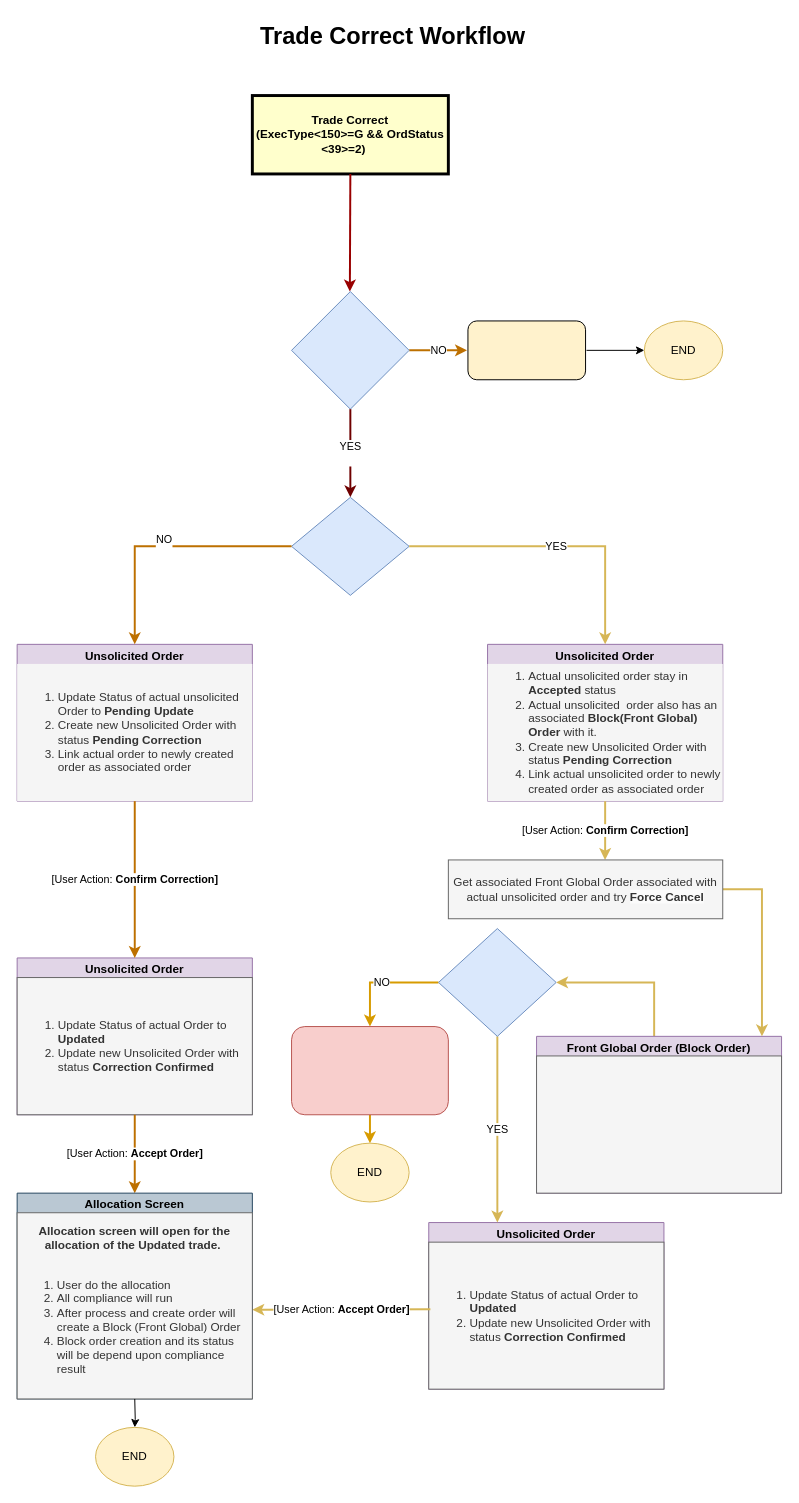
The diagram is 799 pixels wide and 1503 high, and some of its shapes have lost their labels. Each missing label, with the centre of its shape:
"Force Cancel Front Global Order associated with actual unsolicited order" belongs at pixel 659 1124.
"Forde Cancel Success?" belongs at pixel 497 982.
"Is Actual Order present?" belongs at pixel 350 350.
"Is Actual Order status is Accepted?" belongs at pixel 350 545.
"Reject/Ignore Drop copy message" belongs at pixel 526 350.
"Show Error message to User" belongs at pixel 369 1070.
